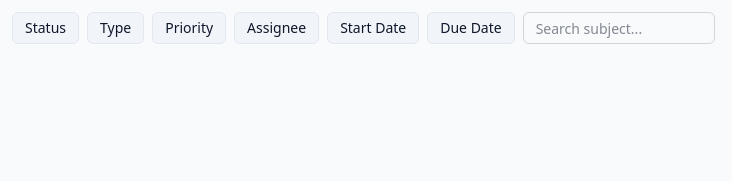
WorkPackageFilters › opens Status dropdown on click
Click the button "Status" at (46, 28), box [12,12,79,44]
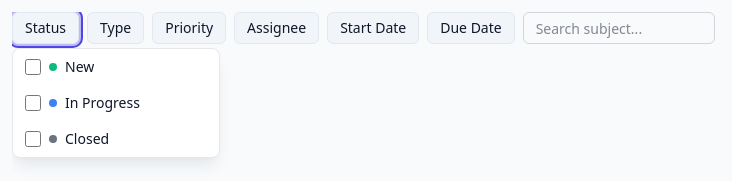
Result: the text "New" is shown at [65,57,94,77]
